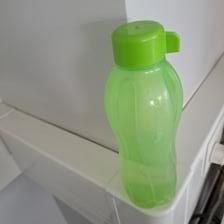bottle: (106, 16, 185, 208)
